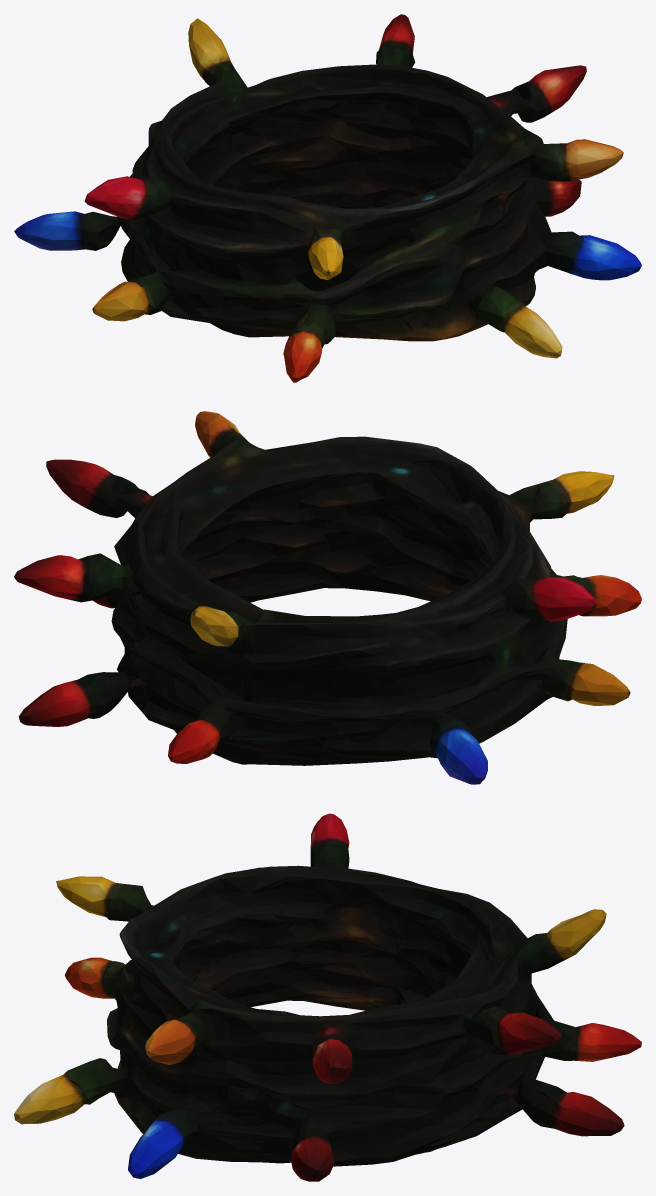
The model's file is twinkle-lights.glb.
The picture shows the model from 3 angles, top to bottom: view 1: azimuth 30°, elevation 25°; view 2: azimuth 150°, elevation 25°; view 3: azimuth 270°, elevation 25°; orthographic projection. The views are drawn at different scales.
Parts seen in each view (by area): view 1: world; view 2: world; view 3: world.
Part boxes in pixels (left/top/right/bottom): world: left=14, top=14, right=641, bottom=382; world: left=14, top=411, right=641, bottom=784; world: left=14, top=813, right=641, bottom=1181.
Size of the model in its own units: 1 by 0.3225 by 0.9972.
1 material, 1 textured.
